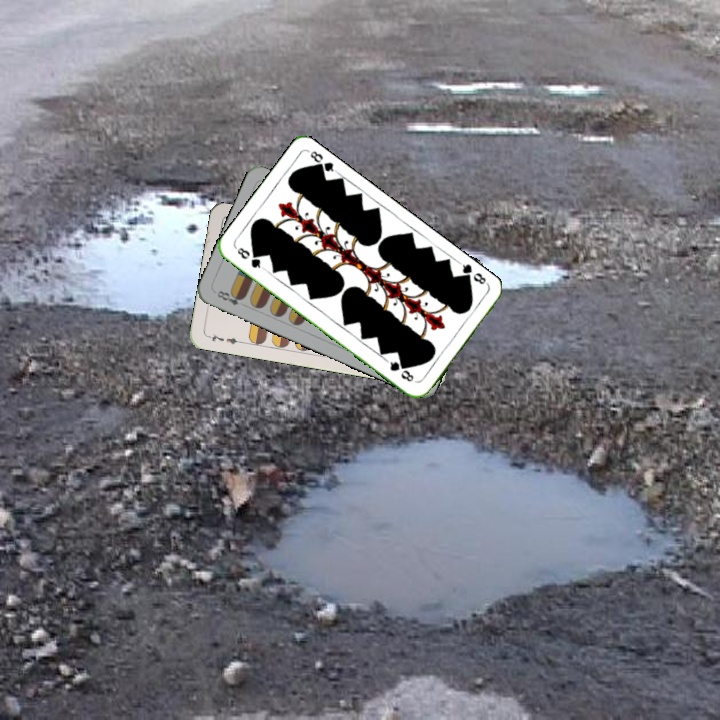E7: (204, 330, 244, 347)
E8: (211, 286, 247, 308)
G8: (456, 259, 491, 288), (233, 243, 267, 272)
